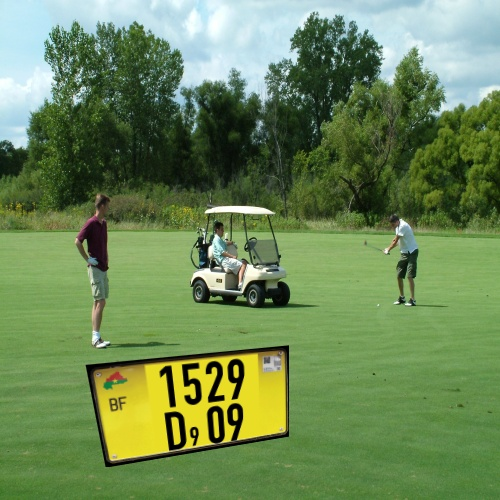plate: (69, 339, 309, 476)
